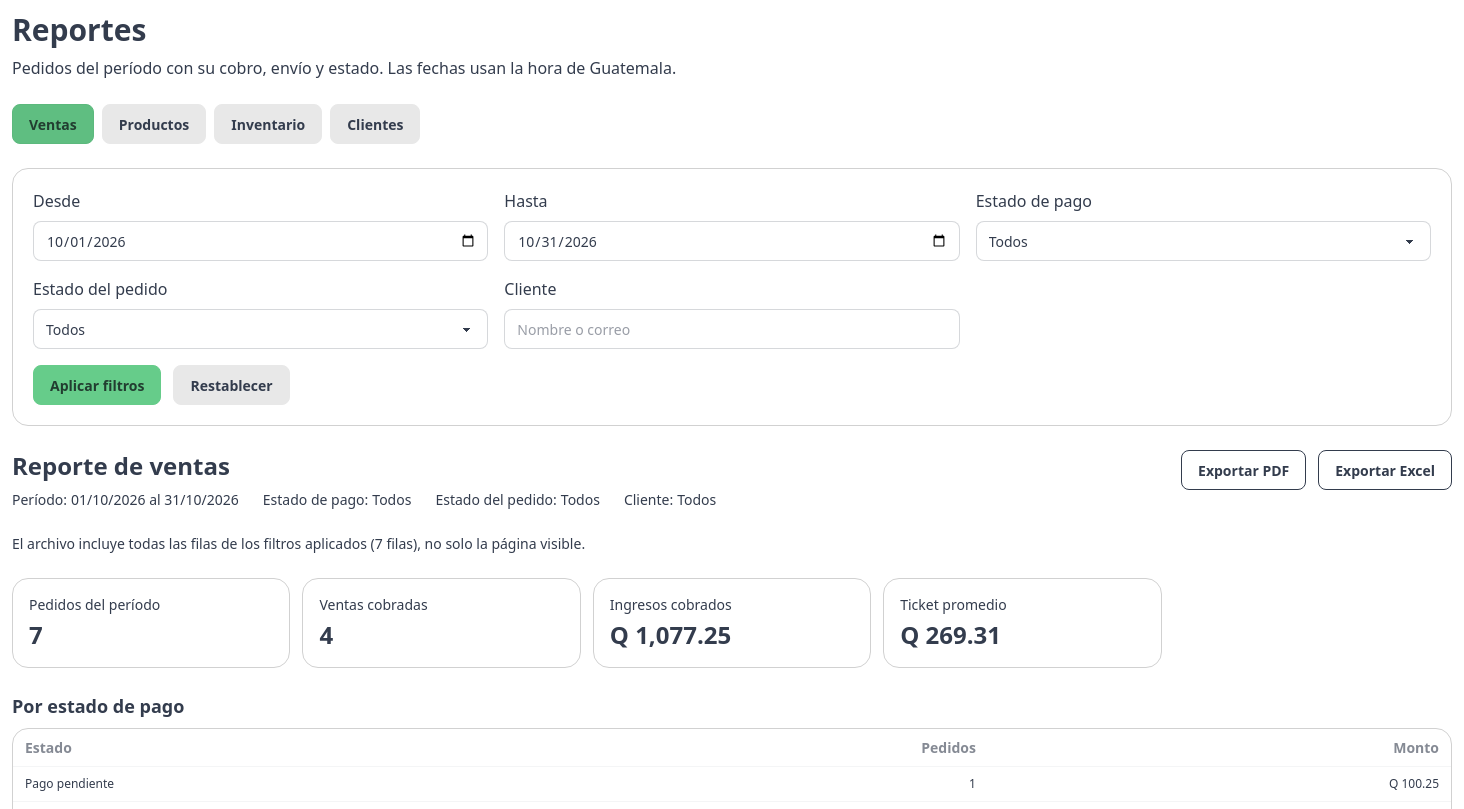
Scenario: ReportsAdminPageComponent (reportes del panel) › un error de exportación se muestra con el mensaje seguro del servidor y el botón deja de cargar
Click the button "Exportar PDF" at (1244, 470), box [1181, 450, 1306, 490]
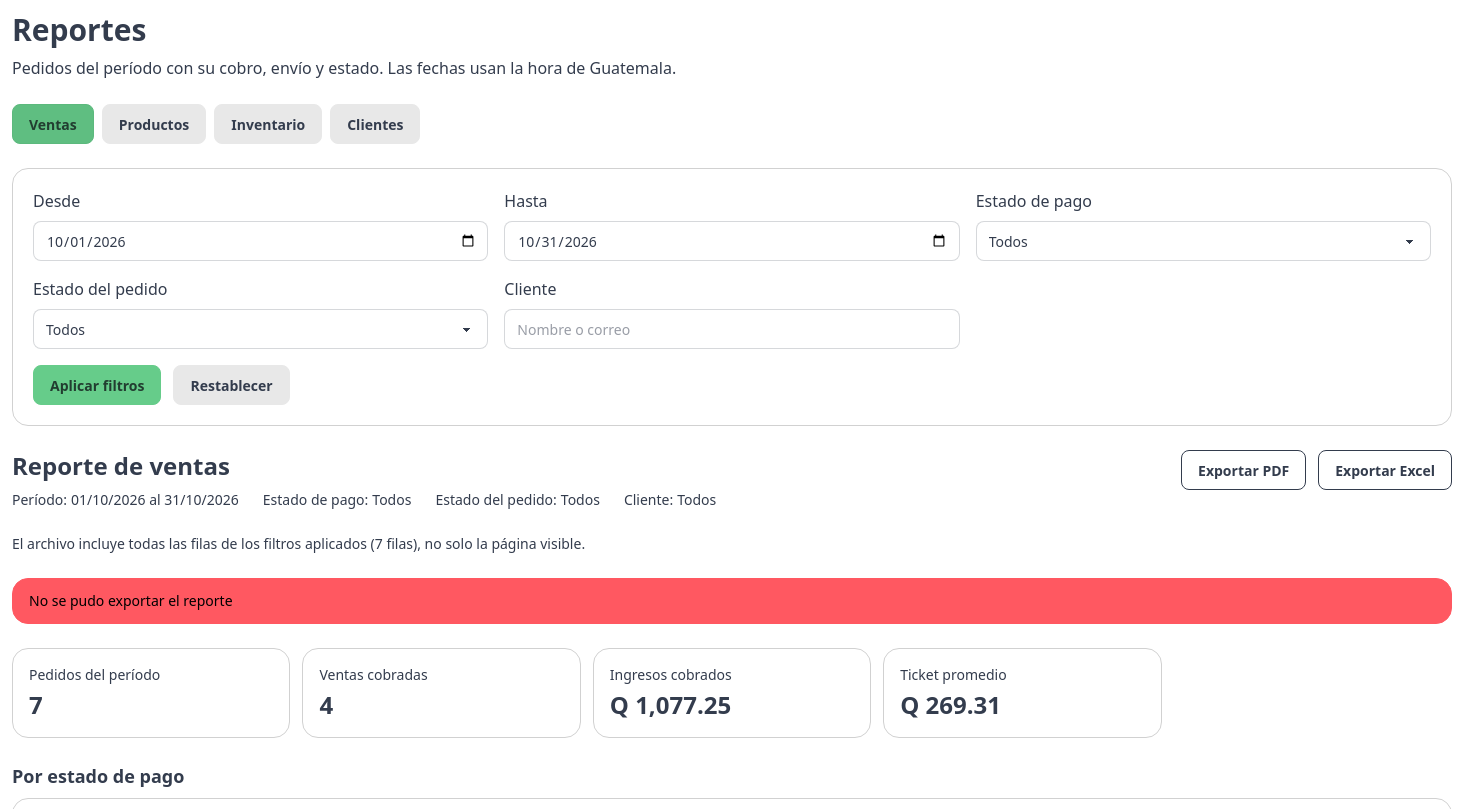
Expected: the button "Exportar Excel" is enabled, [1318, 450, 1452, 490]
Now the text "No se pudo exportar el reporte" is shown, box [29, 591, 232, 611]
